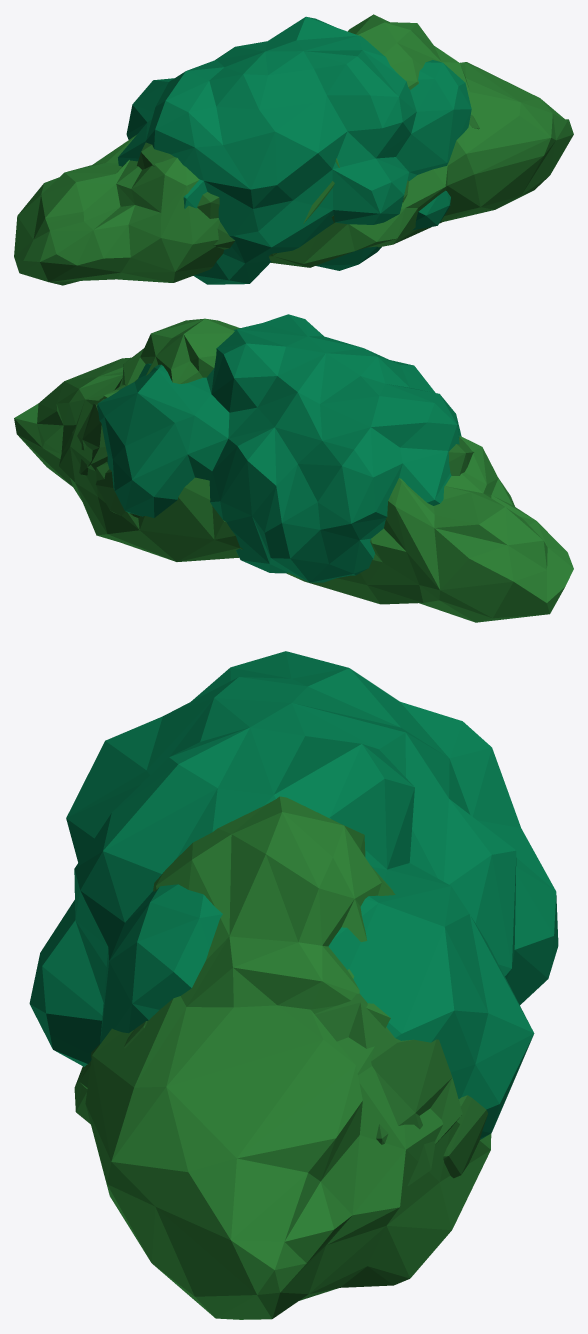
File: bushes.glb
3 views of the same model, one above another, from view 1: azimuth 30°, elevation 25°; view 2: azimuth 150°, elevation 25°; view 3: azimuth 270°, elevation 25° (orthographic). The views are drawn at different scales.
Parts seen in each view (by area): view 1: bush1, bush3, bush4; view 2: bush1, bush3, bush4; view 3: bush1, bush3, bush4.
Part boxes in pixels (x1,y1,x2,y2): bush1: [118, 16, 471, 284]; bush3: [14, 14, 573, 285]; bush4: [137, 114, 479, 249]; bush1: [97, 314, 461, 582]; bush3: [14, 318, 573, 622]; bush4: [72, 378, 474, 517]; bush1: [29, 651, 558, 1139]; bush3: [74, 796, 491, 1319]; bush4: [91, 993, 487, 1186].
Size of the model in its own units: 2.79 by 1.12 by 1.2.
